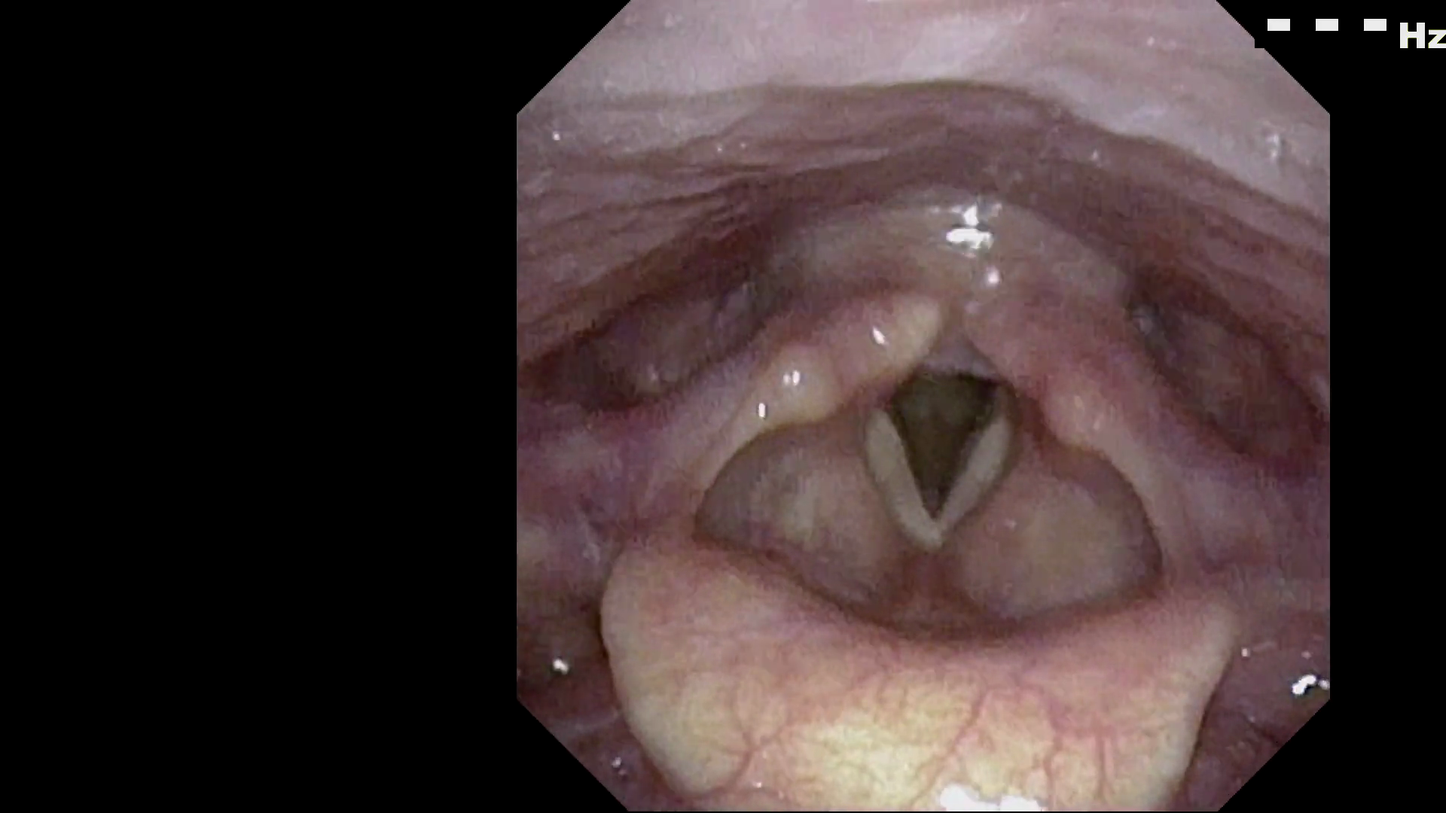epiglottis: (596, 524, 1228, 766)
trachea: (865, 361, 1044, 586)
